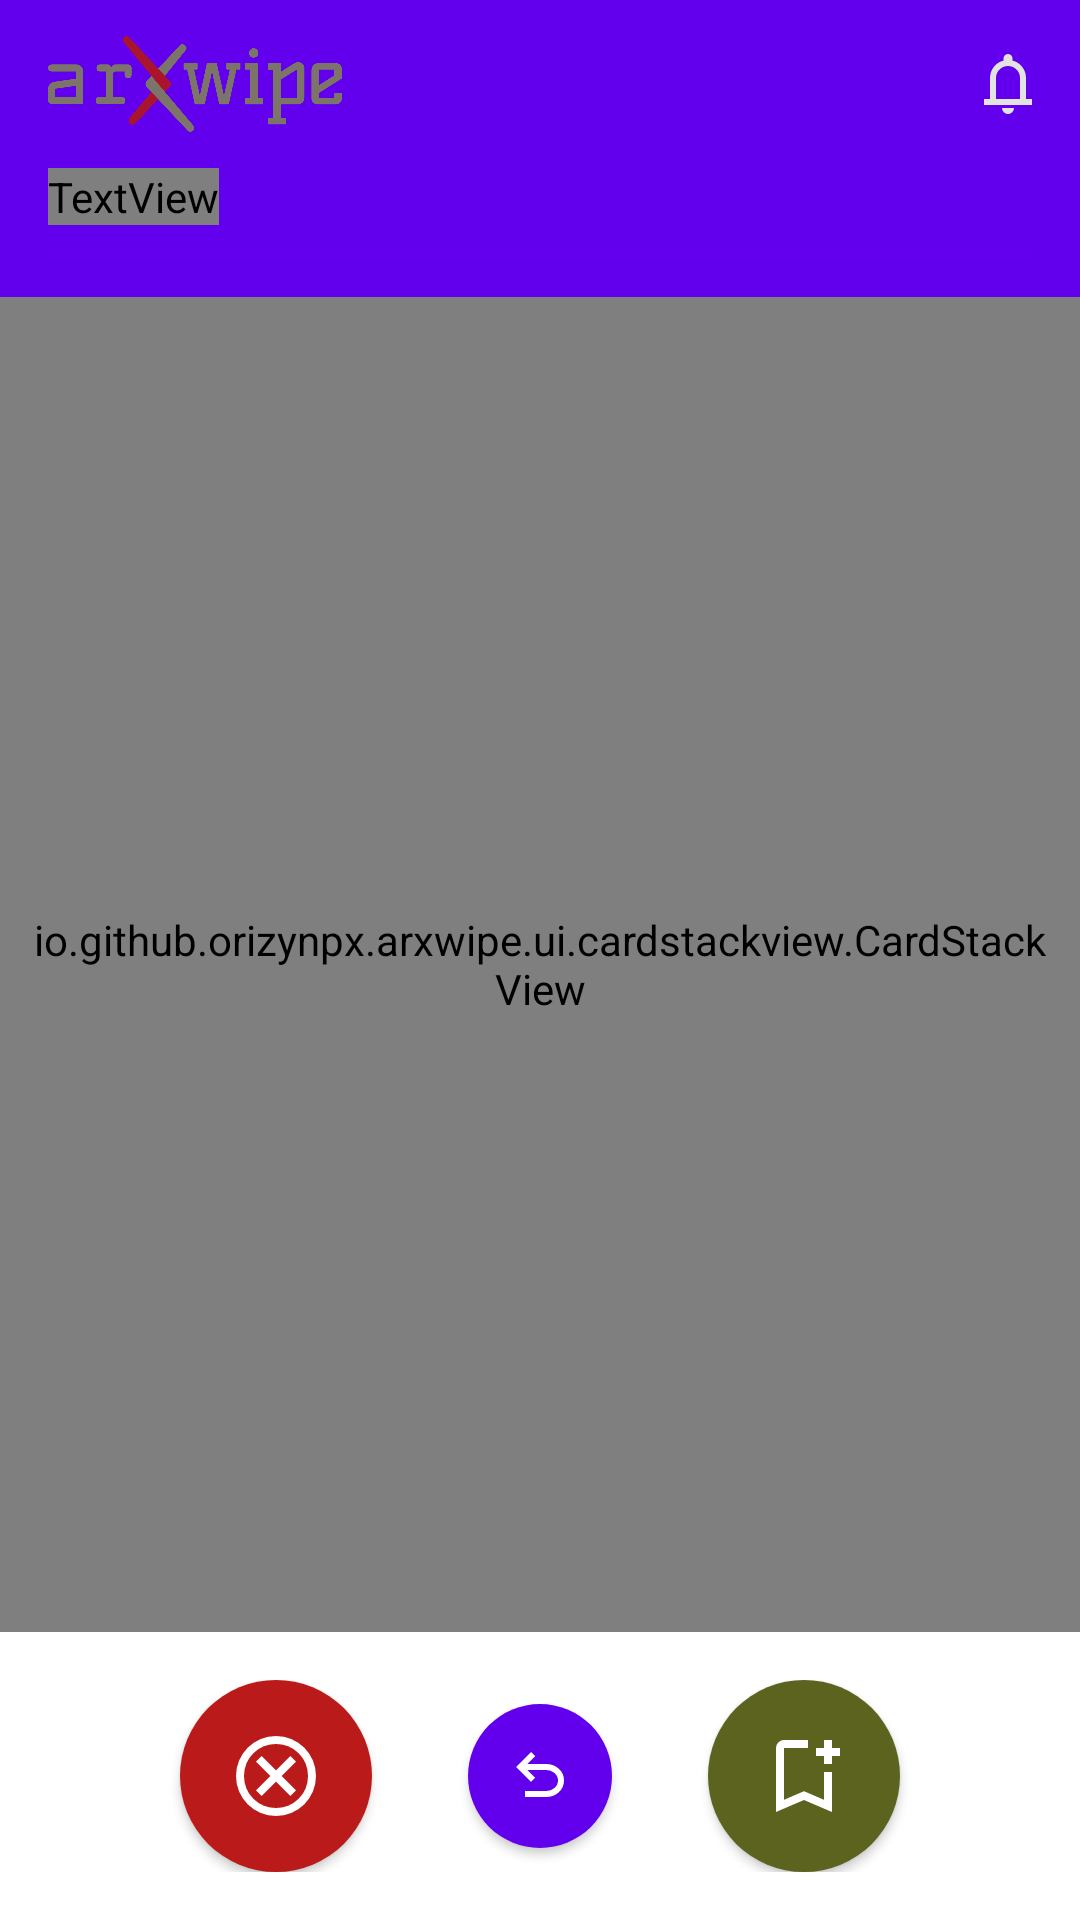

Named icons in this screenshot (1080*1920) and their bounding boxes, (x1, y1, x2, y2):
bookmark add: (708, 1680, 900, 1872)
cancel: (180, 1680, 372, 1872)
undo: (468, 1704, 612, 1848)
